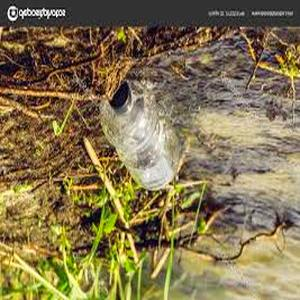Plastic: (105, 79, 182, 193)
